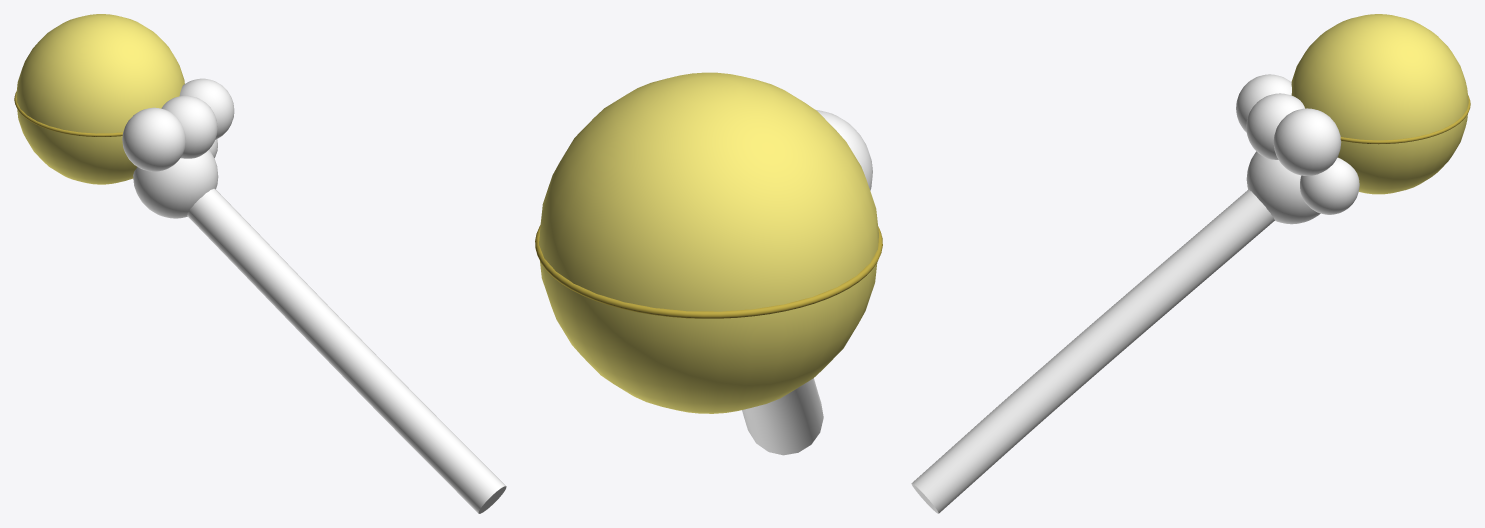
The model's file is fphand.glb.
3 views of the same model, side by side, from view 1: azimuth 30°, elevation 25°; view 2: azimuth 150°, elevation 25°; view 3: azimuth 270°, elevation 25° (orthographic). The views are drawn at different scales.
Visible parts, largest first — view 1: FP_Ball, FP_Arm, FP_Palm, FP_Finger2, FP_Finger1, FP_Finger0; view 2: FP_Ball, FP_Arm, FP_BallSeam, FP_Finger2; view 3: FP_Ball, FP_Arm, FP_Finger0, FP_Palm, FP_Thumb, FP_Finger1, FP_Finger2, FP_BallSeam.
Boxes of the visible parts, x1=… form: FP_Ball: x1=16, y1=14, x2=184, y2=184; FP_Arm: x1=187, y1=188, x2=506, y2=513; FP_Palm: x1=133, y1=149, x2=218, y2=218; FP_Finger2: x1=122, y1=107, x2=185, y2=171; FP_Finger1: x1=161, y1=95, x2=217, y2=158; FP_Finger0: x1=179, y1=78, x2=234, y2=139; FP_Ball: x1=539, y1=72, x2=878, y2=413; FP_Arm: x1=742, y1=378, x2=823, y2=455; FP_BallSeam: x1=535, y1=225, x2=882, y2=318; FP_Finger2: x1=815, y1=109, x2=872, y2=190; FP_Ball: x1=1291, y1=14, x2=1468, y2=194; FP_Arm: x1=911, y1=189, x2=1274, y2=513; FP_Finger0: x1=1273, y1=108, x2=1341, y2=175; FP_Palm: x1=1246, y1=151, x2=1320, y2=224; FP_Thumb: x1=1300, y1=157, x2=1359, y2=214; FP_Finger1: x1=1246, y1=93, x2=1304, y2=159; FP_Finger2: x1=1236, y1=74, x2=1291, y2=132; FP_BallSeam: x1=1340, y1=95, x2=1470, y2=144.
Size of the model in its own units: 1.09 by 1.47 by 1.86.
